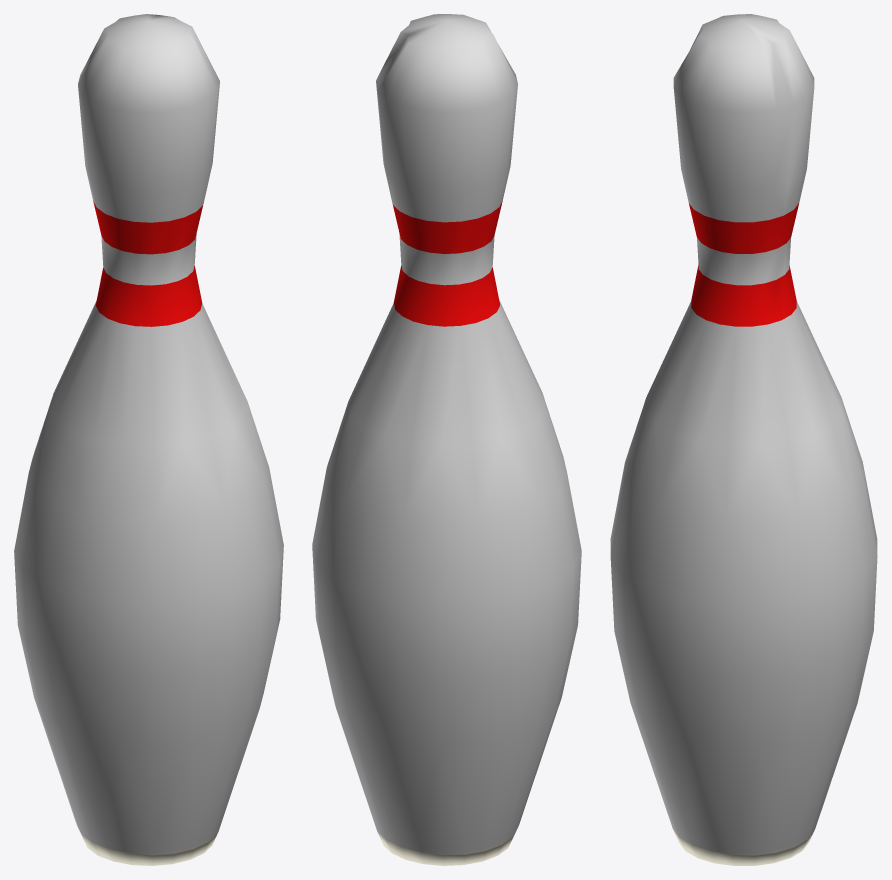
File: pin_7th_version_15inches_height.fbx
3 views of the same model, side by side, from view 1: azimuth 30°, elevation 25°; view 2: azimuth 150°, elevation 25°; view 3: azimuth 270°, elevation 25° (orthographic).
Parts seen in each view (by area): view 1: Pin2; view 2: Pin2; view 3: Pin2.
Boxes of the visible parts, bbox=[...] form: Pin2: bbox=[14, 14, 283, 865]; Pin2: bbox=[312, 14, 581, 865]; Pin2: bbox=[610, 14, 877, 865].
Size of the model in its own units: 11.37 by 38.44 by 11.37.
